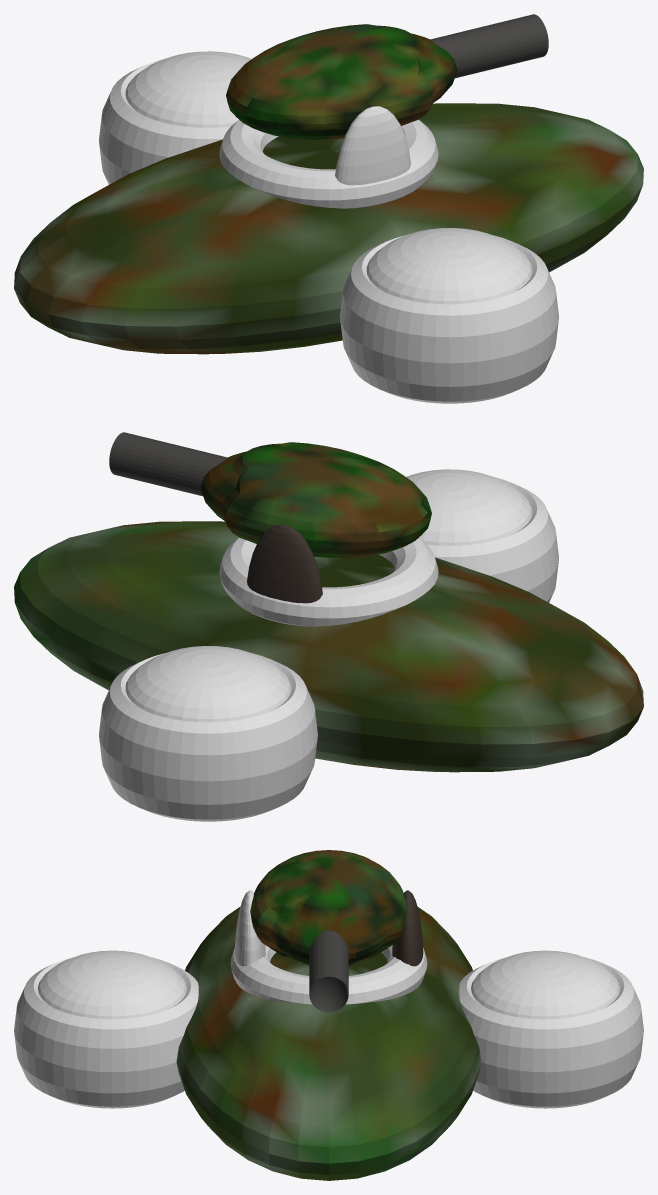
File: HovertankAlpha.dae
3 renders of one model, top to bottom at view 1: azimuth 30°, elevation 25°; view 2: azimuth 150°, elevation 25°; view 3: azimuth 270°, elevation 25°, orthographic. The views are drawn at different scales.
Visible parts, largest first — view 1: Hull, RightEngineRing, TurretBody, RightEngineTop, TurretRing, LeftEngineTop, LeftEngineRing, TurretRight, Barrel; view 2: Hull, LeftEngineRing, TurretBody, LeftEngineTop, TurretRing, RightEngineTop, RightEngineRing, TurretLeft, Barrel; view 3: Hull, RightEngineRing, LeftEngineRing, TurretBody, RightEngineTop, LeftEngineTop, TurretRing, Barrel, TurretLeft, TurretRight.
Part boxes in pixels (x1,y1,x2,y2): Hull: (14, 103, 643, 354); RightEngineRing: (340, 235, 558, 403); TurretBody: (226, 24, 457, 139); RightEngineTop: (366, 228, 532, 304); TurretRing: (219, 119, 438, 208); LeftEngineTop: (125, 51, 251, 127); LeftEngineRing: (99, 58, 230, 184); TurretRight: (335, 106, 410, 185); Barrel: (430, 14, 548, 78); Hull: (14, 521, 643, 772); LeftEngineRing: (99, 653, 317, 821); TurretBody: (200, 442, 431, 557); LeftEngineTop: (125, 646, 291, 722); TurretRing: (219, 537, 438, 626); RightEngineTop: (406, 469, 532, 545); RightEngineRing: (427, 476, 558, 602); TurretLeft: (247, 524, 322, 603); Barrel: (109, 432, 227, 496); Hull: (176, 906, 481, 1180); RightEngineRing: (14, 957, 198, 1108); LeftEngineRing: (459, 957, 643, 1108); TurretBody: (250, 850, 407, 965); RightEngineTop: (38, 950, 186, 1019); LeftEngineTop: (471, 950, 619, 1019); TurretRing: (230, 945, 427, 1004); Barrel: (309, 930, 348, 1012); TurretLeft: (392, 890, 423, 966); TurretRight: (234, 890, 265, 966).
Size of the model in its own units: 8 by 8 by 3.29.
